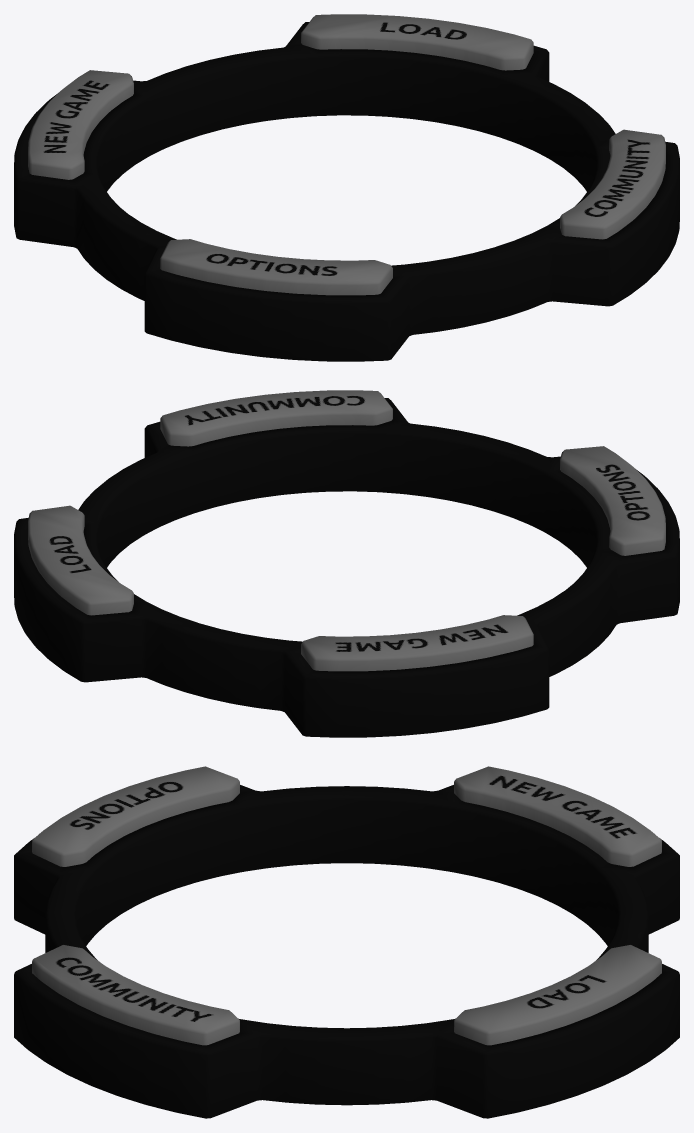
File: main menu.fbx
The picture shows the model from 3 angles, top to bottom: view 1: azimuth 30°, elevation 25°; view 2: azimuth 150°, elevation 25°; view 3: azimuth 270°, elevation 25°; orthographic projection. The views are drawn at different scales.
Parts seen in each view (by area): view 1: base, load, options, community, new_game; view 2: base, community, new_game, load, options; view 3: base, options, new_game, community, load.
Boxes of the visible parts, bbox=[...] form: base: bbox=[14, 22, 679, 361]; load: bbox=[301, 14, 533, 70]; options: bbox=[160, 239, 392, 295]; community: bbox=[560, 129, 665, 239]; new_game: bbox=[28, 70, 133, 179]; base: bbox=[14, 398, 679, 737]; community: bbox=[160, 390, 392, 446]; new_game: bbox=[301, 615, 533, 671]; load: bbox=[28, 505, 133, 615]; options: bbox=[560, 446, 665, 555]; base: bbox=[14, 785, 679, 1118]; options: bbox=[32, 766, 239, 866]; new_game: bbox=[454, 766, 661, 866]; community: bbox=[32, 945, 239, 1045]; load: bbox=[454, 945, 661, 1045].
Bounding box in the file's own units: 4.42 × 0.58 × 4.42.
